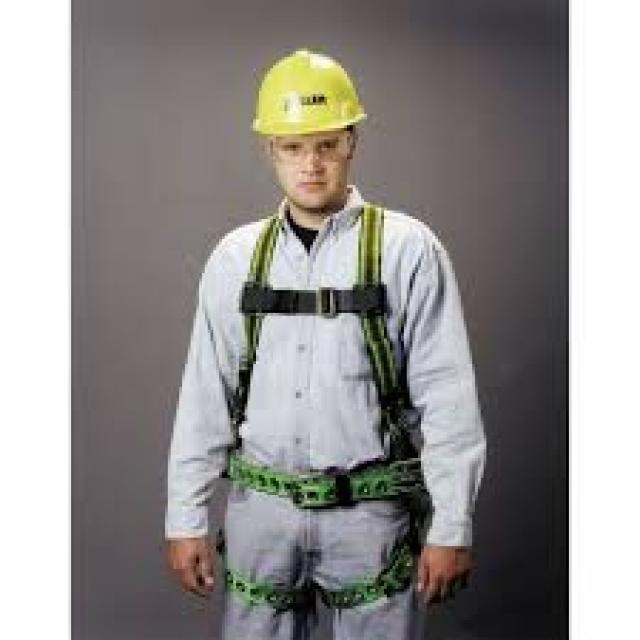Arnes_seguridad: (216, 201, 428, 622)
